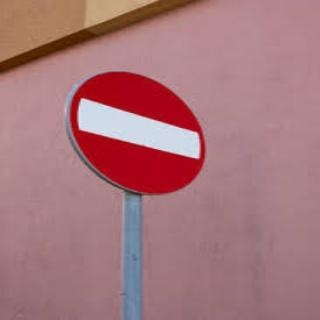sign_noentry: (62, 72, 210, 196)
